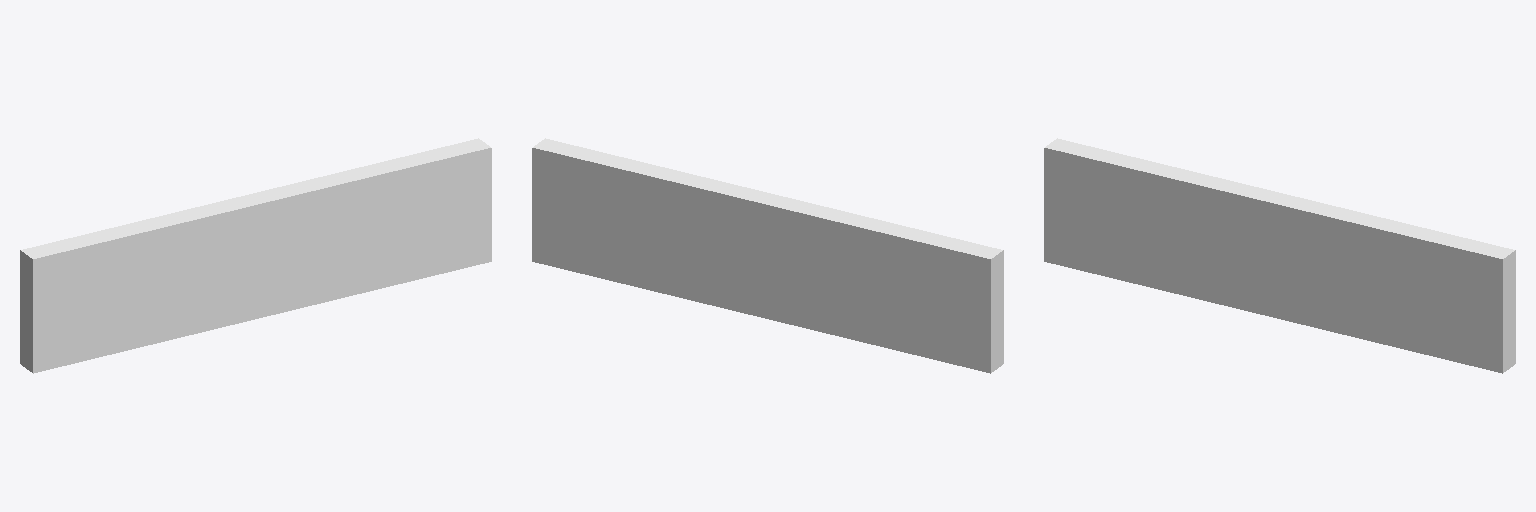
URDF robot description (front_boundary_cefang.SLDPRT):
<?xml version="1.0" encoding="utf-8"?>
<!-- This URDF was automatically created by SolidWorks to URDF Exporter! Originally created by [author] ([email redacted]) 
     Commit Version: 1.5.1-0-g916b5db  Build Version: 1.5.7152.31018
     For more information, please see http://wiki.ros.org/sw_urdf_exporter -->
<robot
  name="front_boundary_cefang.SLDPRT">
  <link
    name="front_boundary_cefang.SLDPRT">
    <inertial>
      <origin
        xyz="0.21 -0.01 0.05"
        rpy="0 0 0" />
      <mass
        value="0.84" />
      <inertia
        ixx="0.000728"
        ixy="-4.1202E-20"
        ixz="-5.1435E-21"
        iyy="0.013048"
        iyz="-4.11467734884319E-20"
        izz="0.012376" />
    </inertial>
    <visual>
      <origin
        xyz="0 0 0"
        rpy="1.5707963267949 0 0" />
      <geometry>
        <mesh
          filename="package://front_boundary_cefang.SLDPRT/meshes/front_boundary_cefang.SLDPRT.STL" />
      </geometry>
      <material
        name="">
        <color
          rgba="1 1 1 1" />
        <texture
          filename="package://front_boundary_cefang.SLDPRT/textures/" />
      </material>
    </visual>
    <collision>
      <origin
        xyz="0 0 0"
        rpy="1.5707963267949 0 0" />
      <geometry>
        <mesh
          filename="package://front_boundary_cefang.SLDPRT/meshes/front_boundary_cefang.SLDPRT.STL" />
      </geometry>
    </collision>
  </link>
</robot>

--- Facts derived from the render (not from the file) ---
The picture shows the robot from 3 angles, left to right: view 1: azimuth 30°, elevation 25°; view 2: azimuth 150°, elevation 25°; view 3: azimuth 330°, elevation 25°; orthographic projection.
Model front_boundary_cefang.SLDPRT with 1 links and 0 joints (none), rooted at front_boundary_cefang.SLDPRT, posed every joint at zero.
Visible links, largest first — view 1: front_boundary_cefang.SLDPRT; view 2: front_boundary_cefang.SLDPRT; view 3: front_boundary_cefang.SLDPRT.
Boxes of the visible links, x1,y1,x2,y2 form: front_boundary_cefang.SLDPRT: (20, 138, 491, 373); front_boundary_cefang.SLDPRT: (532, 138, 1003, 373); front_boundary_cefang.SLDPRT: (1044, 138, 1515, 373).
Size in the robot's own frame: 0.42 by 0.02 by 0.1 metres.
Meshes: 1 distinct files referenced, 1 mesh visuals loaded (1 binary STL).